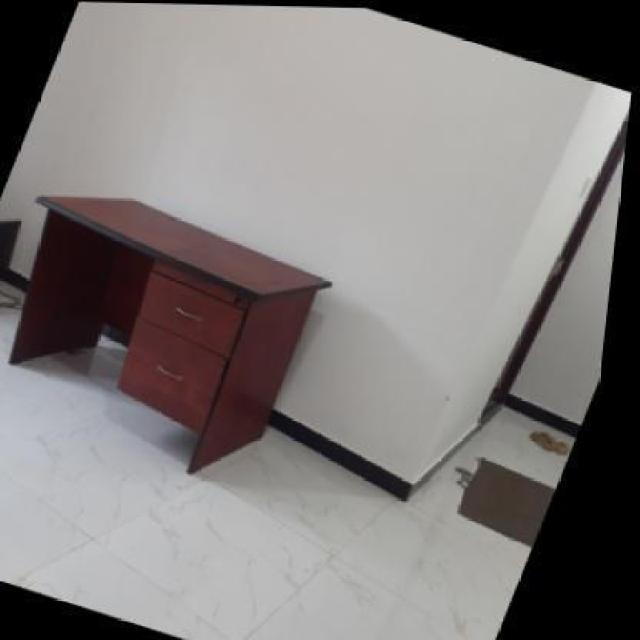tables: (5, 194, 332, 474)
